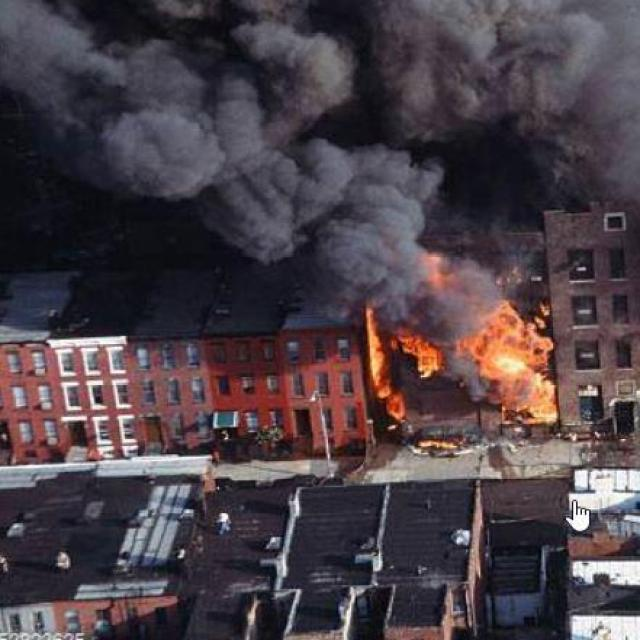Fire: (456, 298, 557, 424), (360, 296, 402, 420), (397, 332, 443, 378), (424, 242, 446, 292)
Smoke: (0, 9, 278, 218)
